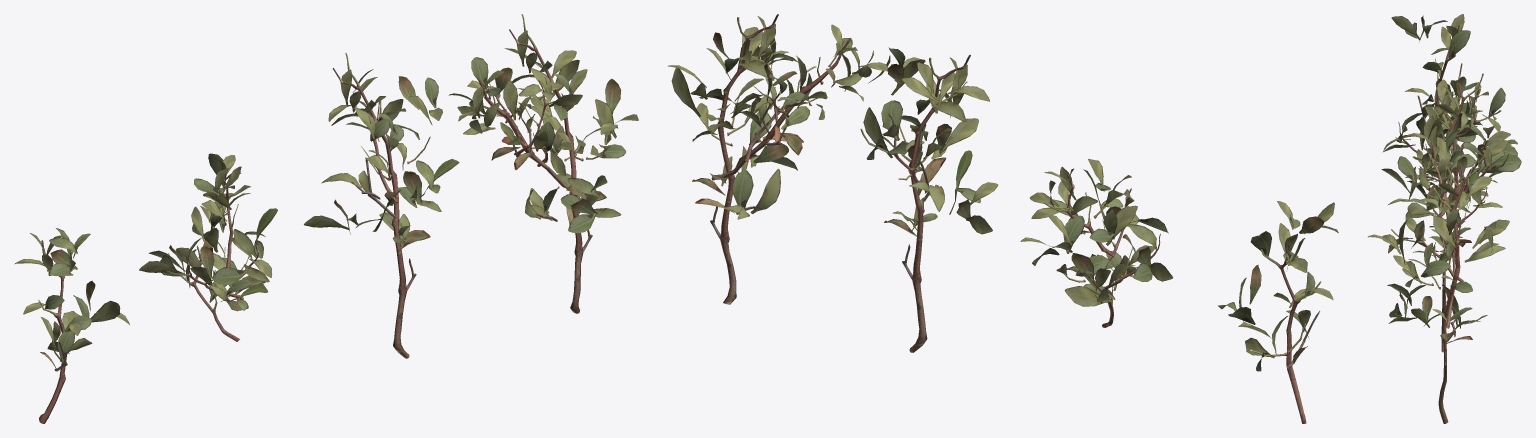
Rendered from shrub_04.glb.
3 views of the same model, side by side, from view 1: azimuth 30°, elevation 25°; view 2: azimuth 150°, elevation 25°; view 3: azimuth 270°, elevation 25° (orthographic). The views are drawn at different scales.
Visible parts, largest first — view 1: shrub_04; view 2: shrub_04; view 3: shrub_04.
Boxes of the visible parts, <box> form: shrub_04: <box>14,14,638,423</box>; shrub_04: <box>668,14,1338,423</box>; shrub_04: <box>1368,14,1521,423</box>.
Size of the model in its own units: 0.5742 by 0.2786 by 0.148.
1 material, 1 textured.
